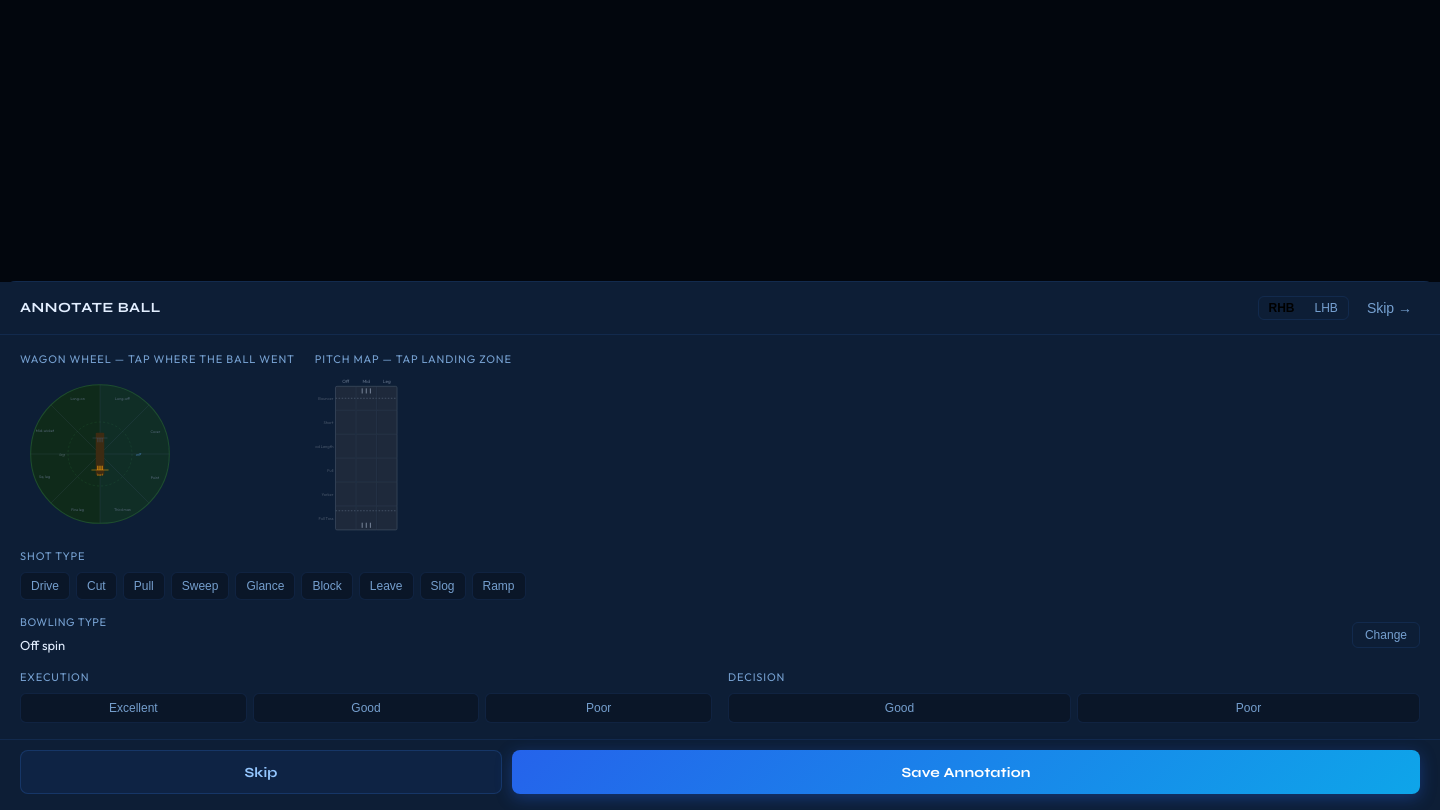
Test: BallAnnotationPanel — knownBowlingType prop pre-fills the bowling type picker › clicking Change reveals the full BowlingTypePicker grid
The width and height of the screenshot is (1440, 810).
Click the button "Change". click: (1386, 635)
box: [1352,622,1420,648]
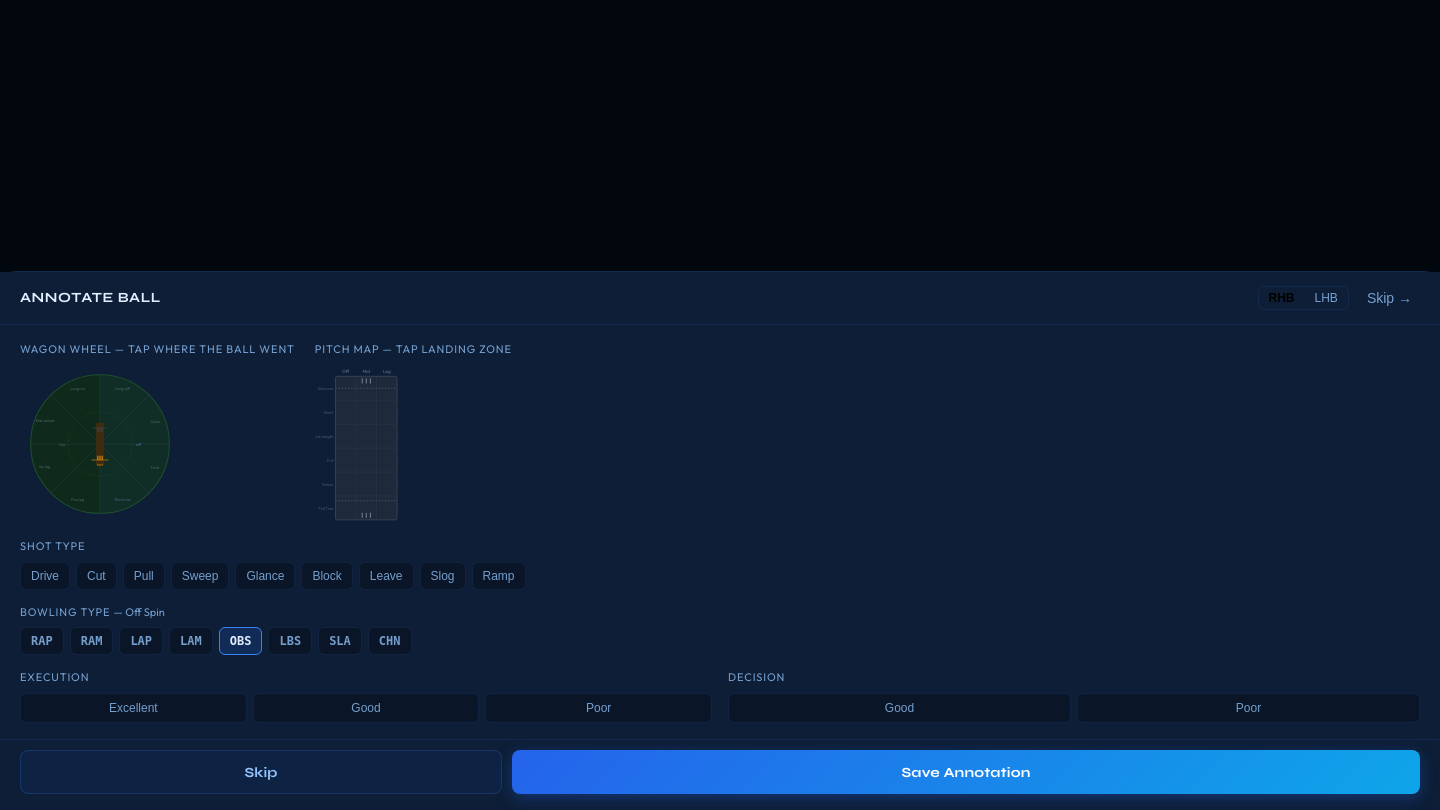
Check: the button "RAP" is shown, box [20,627,64,655]
Check: the button "OBS" is shown, box [219,627,262,655]
